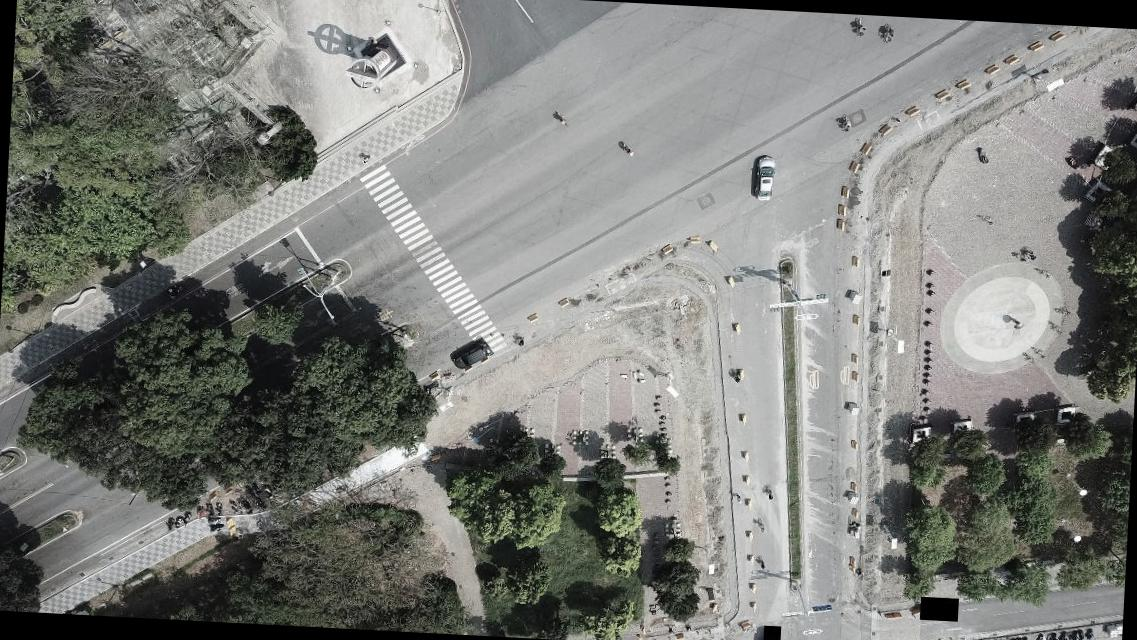vehicle: (452, 340, 492, 371), (753, 154, 776, 202)
